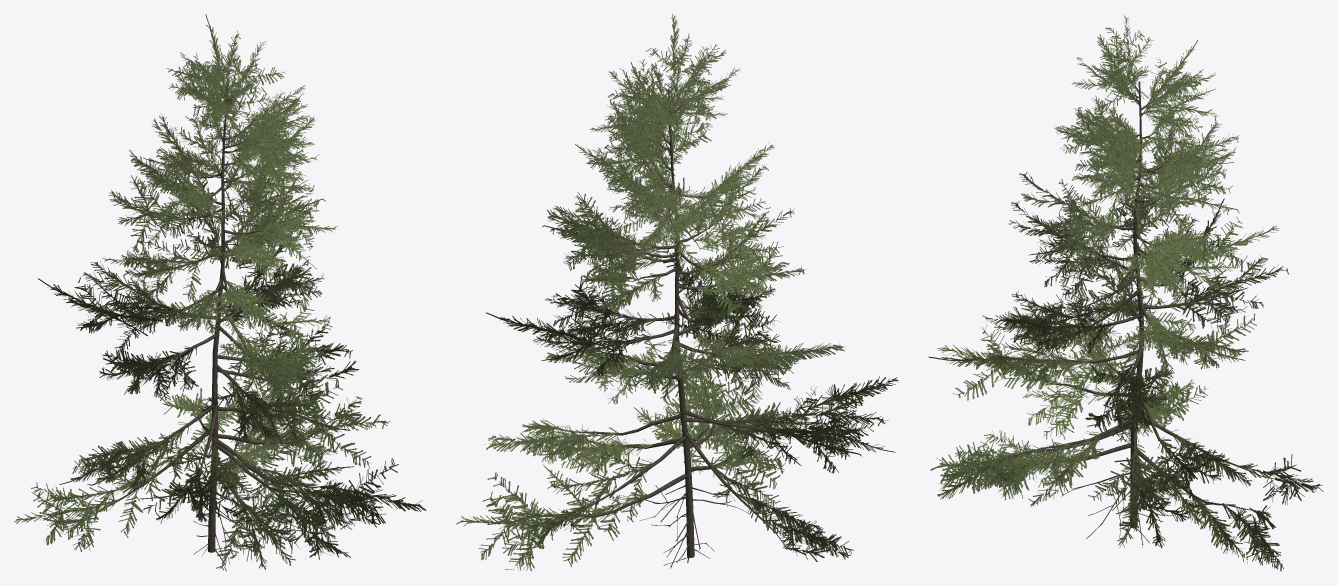
File: gtree_fir2.glb
3 views of the same model, side by side, from view 1: azimuth 30°, elevation 25°; view 2: azimuth 150°, elevation 25°; view 3: azimuth 270°, elevation 25° (orthographic). The views are drawn at different scales.
Visible parts, largest first — view 1: gtree_fir2_v0_lod0; view 2: gtree_fir2_v0_lod0; view 3: gtree_fir2_v0_lod0.
Boxes of the visible parts, x1,y1,x2,y2 form: gtree_fir2_v0_lod0: (14, 14, 426, 571); gtree_fir2_v0_lod0: (455, 14, 898, 570); gtree_fir2_v0_lod0: (928, 14, 1323, 571).
Size of what is drawn, in the model's own units: 4.4 by 5.99 by 4.12.
Materials: 3 (3 with a texture image).
